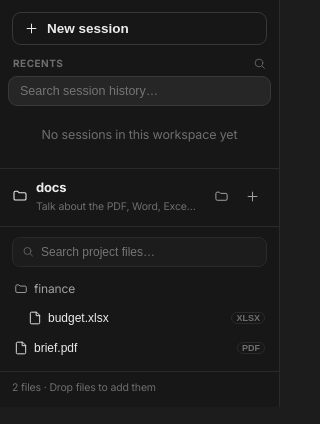
Test: WorkDesk › filters project files without changing the underlying file count
Type "budget" into the field labelled "Search project files…" at (149, 252), box [41,245,257,259]
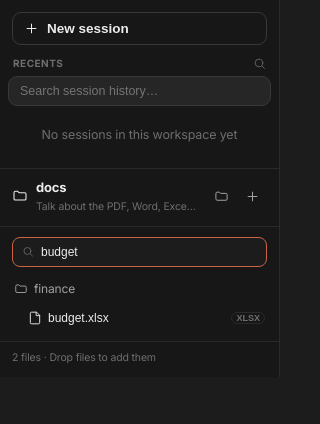
Expected: the button with aria-label "finance/budget.xlsx" is shown, [22,303,271,333]
Expected: the button "brief.pdf" is gone
